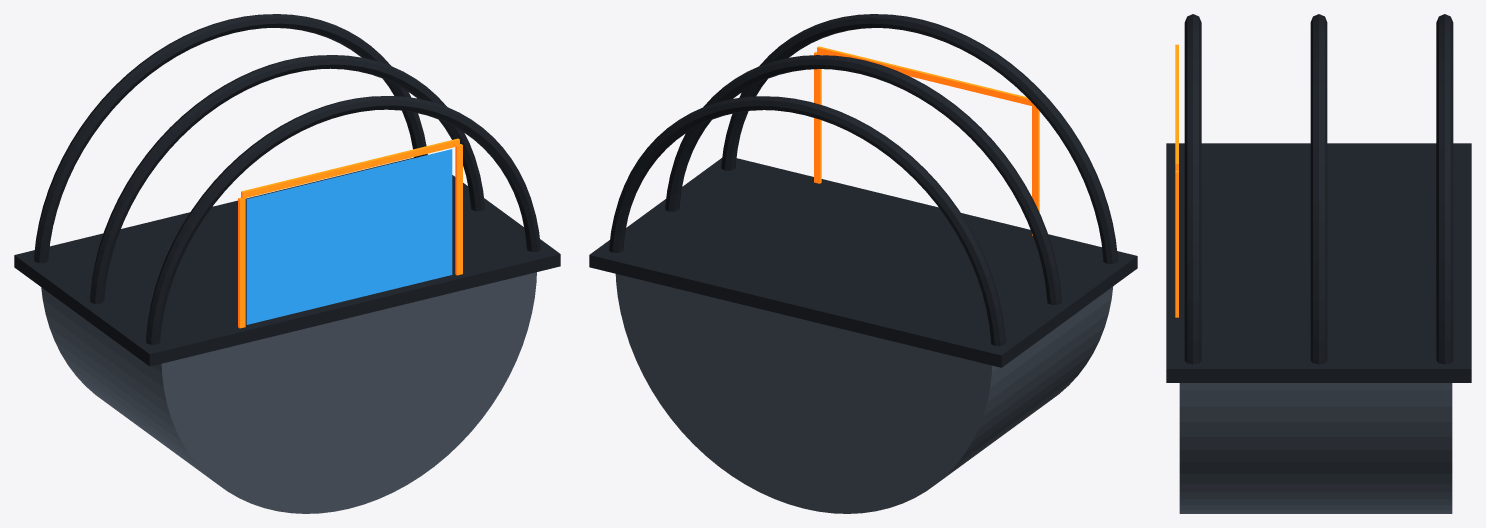
File: hangar.glb
3 renders of one model, left to right at view 1: azimuth 30°, elevation 25°; view 2: azimuth 150°, elevation 25°; view 3: azimuth 270°, elevation 25°, orthographic. The views are drawn at different scales.
Parts seen in each view (by area): view 1: Hangar; view 2: Hangar; view 3: Hangar.
Part boxes in pixels (bbox=[...]): Hangar: bbox=[14, 14, 560, 513]; Hangar: bbox=[589, 14, 1137, 513]; Hangar: bbox=[1166, 14, 1471, 513].
Bounding box in the file's own units: 14 × 13.12 × 8.
